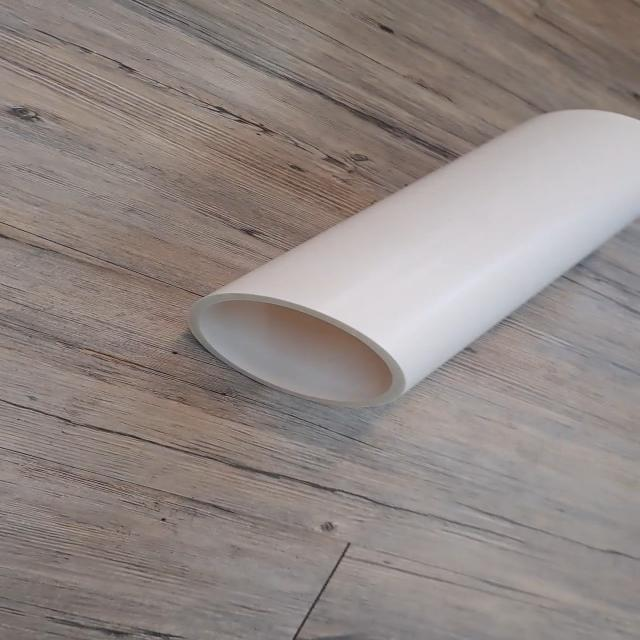CORAL: (163, 93, 640, 414)
